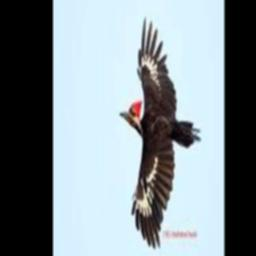Woodpecker: (121, 15, 202, 247)
